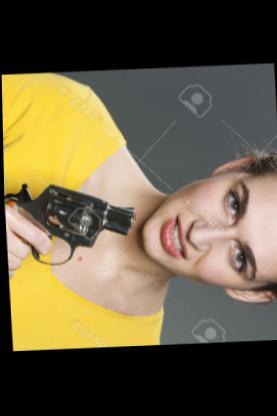pistol: (3, 179, 138, 267)
